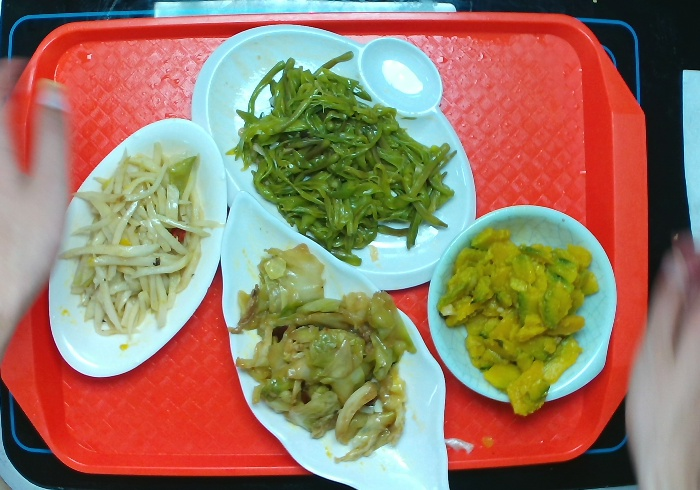RJxy-Bai_Se_Tuo_Yuan: (41, 116, 232, 380)
RJxy-Shu_Ye_Pan: (219, 190, 454, 490)
RJxy-Xiao_Jiao_Yuan_Wan: (423, 202, 616, 403)
RJxy-Zhan_Liao_Pan: (187, 19, 481, 301)
